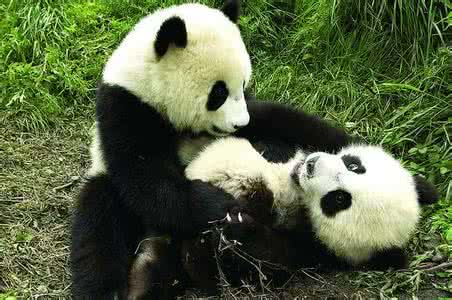panda: (67, 1, 253, 298), (120, 135, 439, 300)
